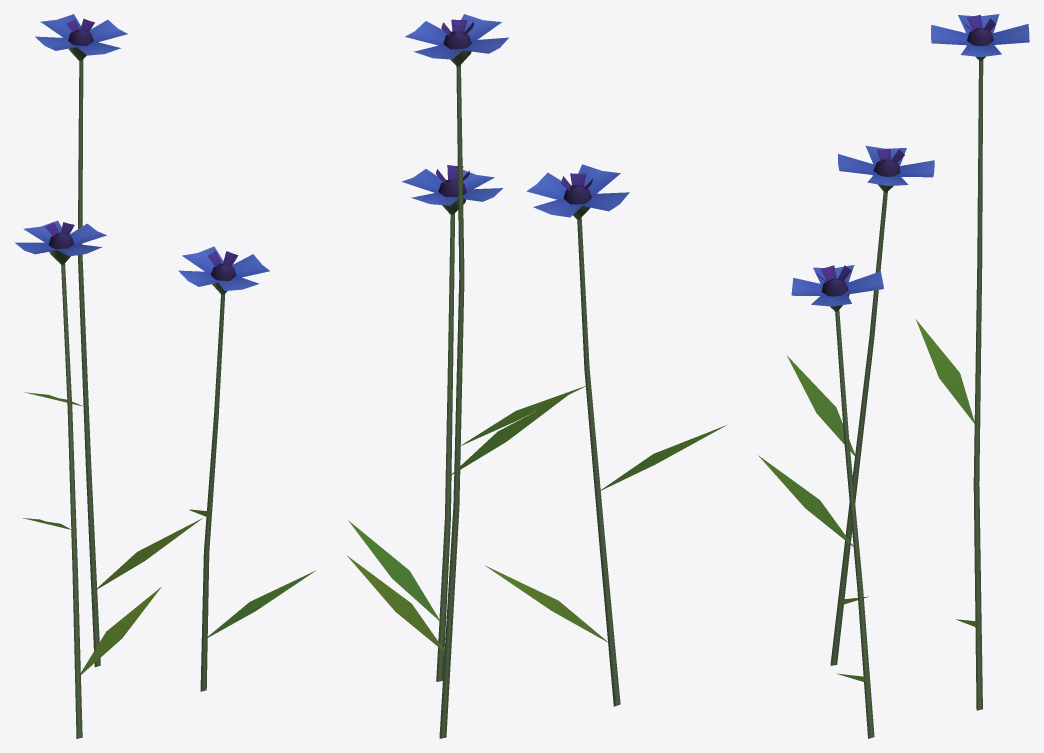
The model's file is flower-cornflower-b.lod1.glb.
The picture shows the model from 3 angles, left to right: view 1: azimuth 30°, elevation 25°; view 2: azimuth 150°, elevation 25°; view 3: azimuth 270°, elevation 25°; orthographic projection. The views are drawn at different scales.
Visible parts, largest first — view 1: flower-cornflower-b.lod1; view 2: flower-cornflower-b.lod1; view 3: flower-cornflower-b.lod1.
Part boxes in pixels (left/top/right/bottom): flower-cornflower-b.lod1: left=15, top=14, right=316, bottom=738; flower-cornflower-b.lod1: left=347, top=14, right=726, bottom=738; flower-cornflower-b.lod1: left=758, top=14, right=1029, bottom=738.
Size of the model in its own units: 0.2512 by 0.4855 by 0.1759.
